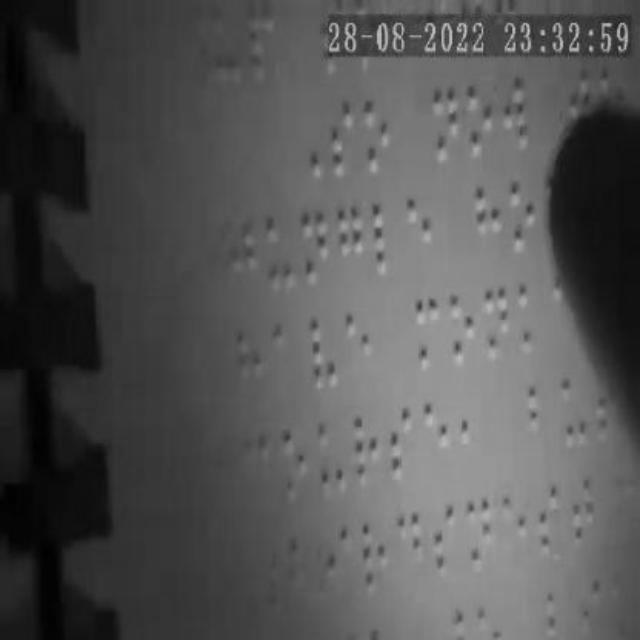braiile: (304, 302, 342, 406), (272, 412, 310, 512), (296, 200, 332, 304), (348, 404, 384, 504), (402, 184, 436, 286), (445, 280, 477, 388), (224, 218, 260, 312), (344, 304, 378, 402), (428, 73, 462, 171), (270, 316, 306, 408), (314, 412, 350, 504), (410, 293, 446, 385), (461, 72, 497, 164), (470, 183, 506, 275), (263, 205, 295, 308), (428, 492, 460, 594), (481, 282, 513, 382), (370, 192, 402, 292), (422, 394, 454, 494), (498, 482, 534, 570), (497, 67, 529, 165), (334, 201, 364, 305), (358, 503, 388, 603), (362, 88, 394, 180), (466, 482, 496, 578), (232, 324, 264, 414), (394, 504, 428, 588), (526, 378, 558, 467), (388, 398, 417, 496), (508, 180, 540, 268), (327, 92, 357, 185), (460, 392, 492, 478), (561, 367, 591, 457), (567, 473, 597, 562), (534, 478, 562, 566), (517, 283, 547, 361)
